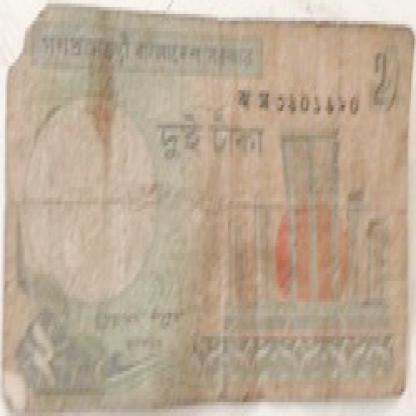two taka: (154, 118, 270, 194), (23, 312, 60, 392)
